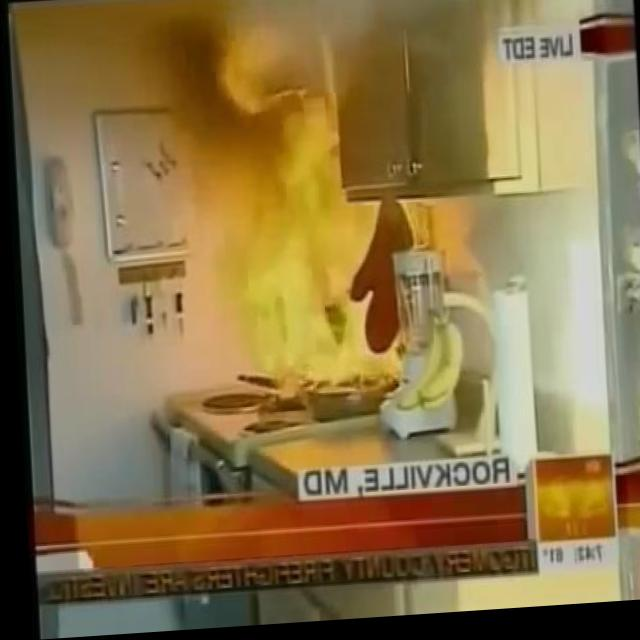fire: (237, 101, 407, 393)
